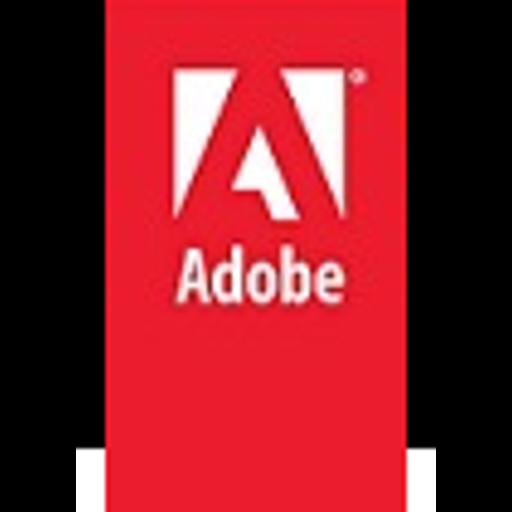Adobe: (76, 0, 436, 512)
